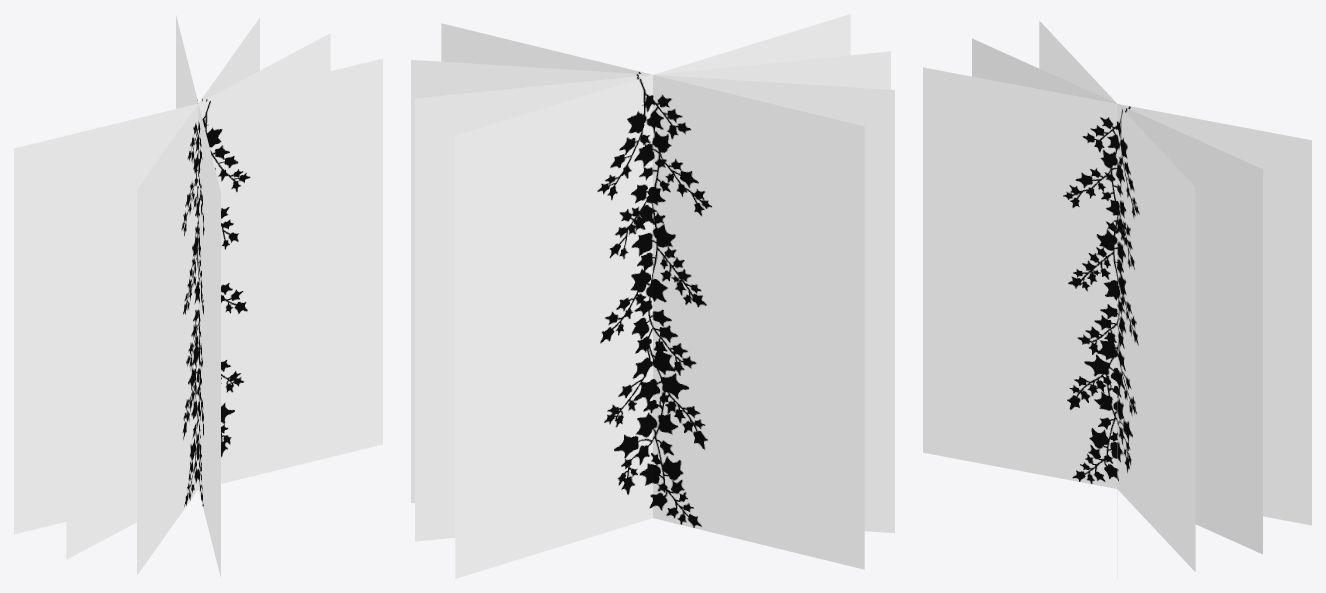
Rendered from PlantIvy.glb.
The picture shows the model from 3 angles, left to right: view 1: azimuth 30°, elevation 25°; view 2: azimuth 150°, elevation 25°; view 3: azimuth 270°, elevation 25°; orthographic projection. The views are drawn at different scales.
Parts seen in each view (by area): view 1: PlantIvy; view 2: PlantIvy; view 3: PlantIvy.
Boxes of the visible parts, x1,y1,x2,y2 form: PlantIvy: [14, 15, 382, 577]; PlantIvy: [411, 14, 894, 578]; PlantIvy: [923, 21, 1311, 578].
Bounding box in the file's own units: 45.53 × 45.53 × 41.63.
Materials: 1 (1 with a texture image).
